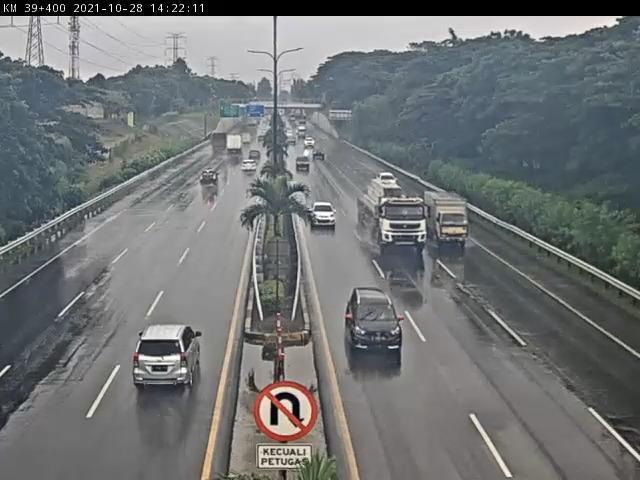car: (134, 322, 206, 392), (344, 285, 406, 357), (312, 202, 336, 226), (377, 170, 398, 192), (199, 170, 221, 186)
truck: (363, 180, 427, 250), (421, 192, 470, 246)
